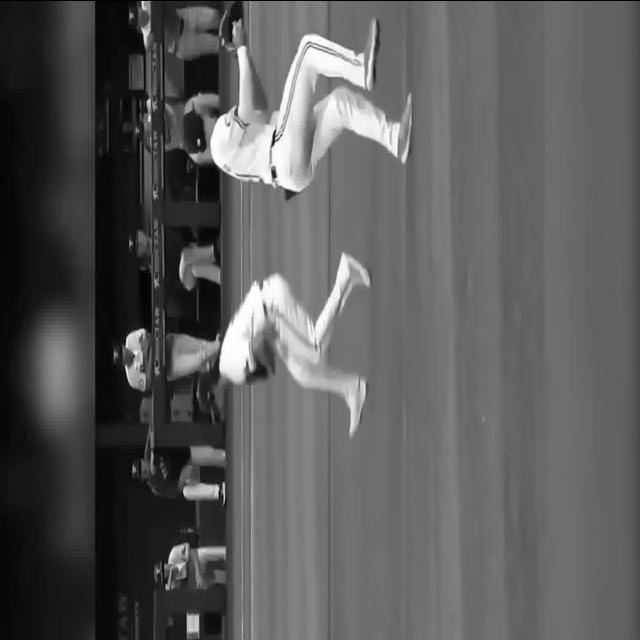baseball_glove: (218, 1, 242, 53)
shoe: (347, 376, 367, 438), (363, 17, 378, 91), (340, 251, 370, 287), (397, 92, 412, 164), (218, 481, 226, 507)
